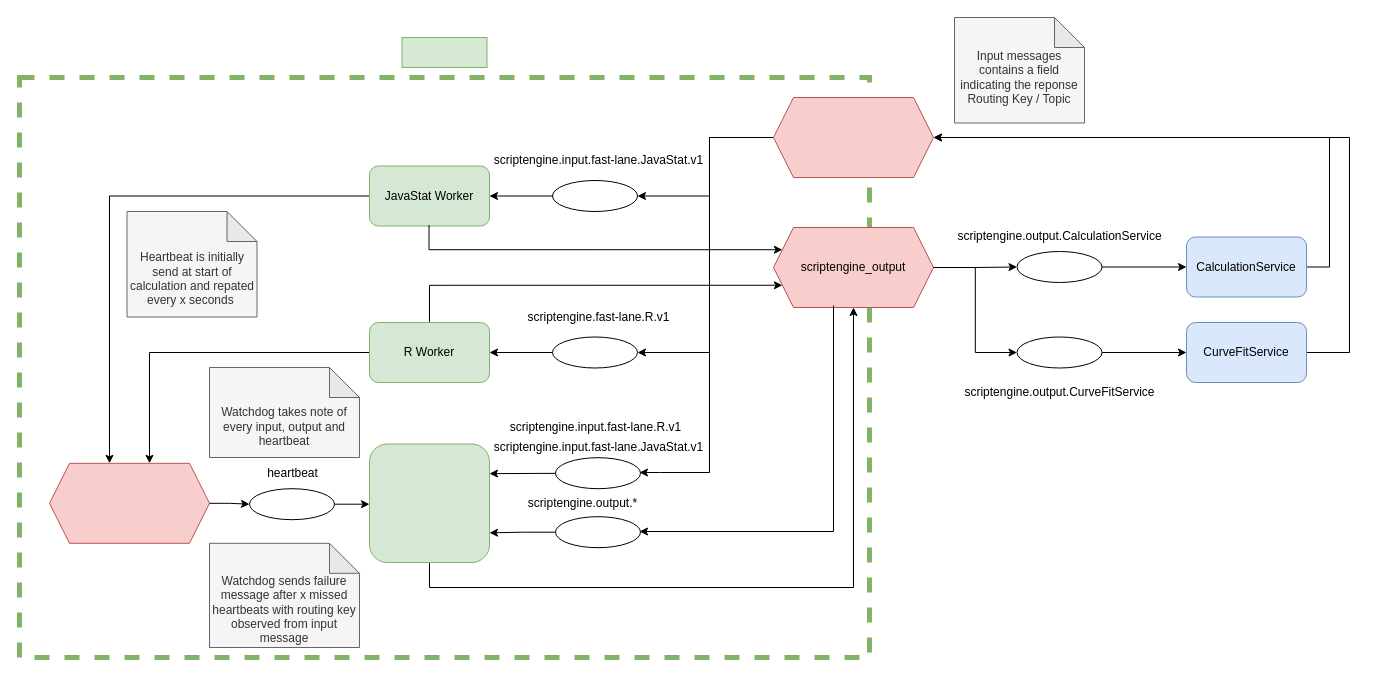
Some shapes in this 1375 by 677 pixel diagram are drawn without their labels. The shapes that lost their labels are listed below. From the top down, each one's centre as x and y in pixels, then its label:
the point at 444,52: Script Engine
the point at 853,137: scriptengine_input
the point at 129,502: scriptengine_heartbeat
the point at 429,502: Watchdog
